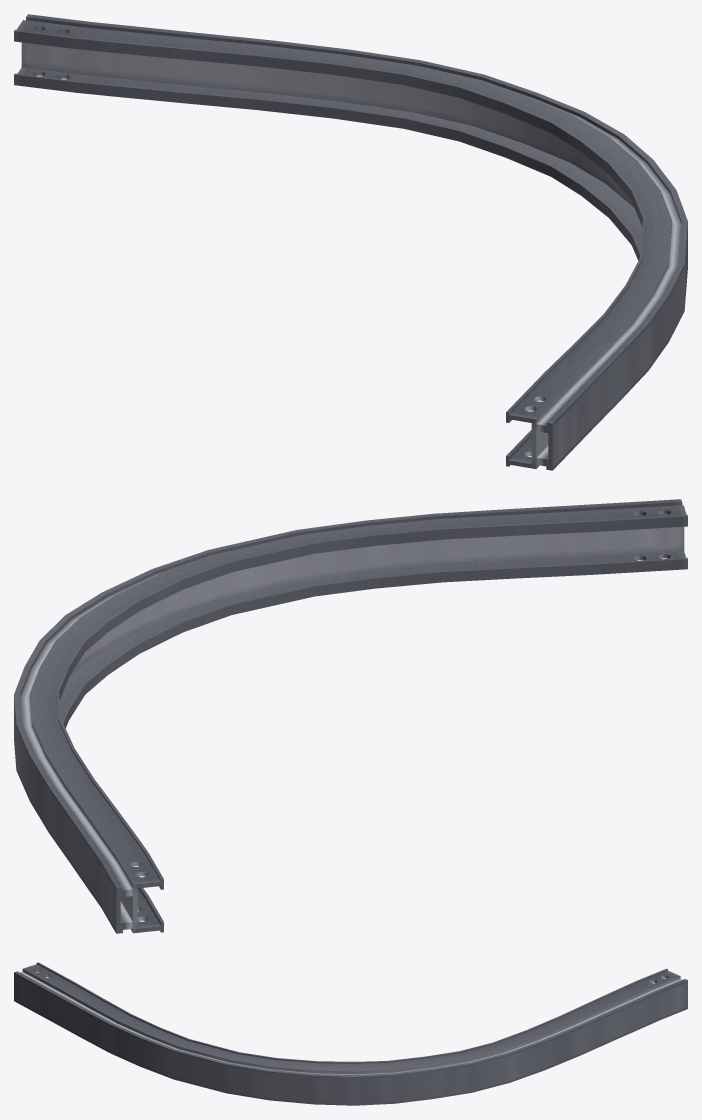
3 views of the same model, one above another, from view 1: azimuth 30°, elevation 25°; view 2: azimuth 150°, elevation 25°; view 3: azimuth 270°, elevation 25° (orthographic). The views are drawn at different scales.
Parts seen in each view (by area): view 1: PN 5000-09B; view 2: PN 5000-09B; view 3: PN 5000-09B.
Boxes of the visible parts, <box> form: PN 5000-09B: <box>14,14,687,470</box>; PN 5000-09B: <box>14,499,687,933</box>; PN 5000-09B: <box>14,962,687,1105</box>.
Size of the model in its own units: 46.66 by 6.39 by 118.
Materials: 1 (1 with a texture image).
